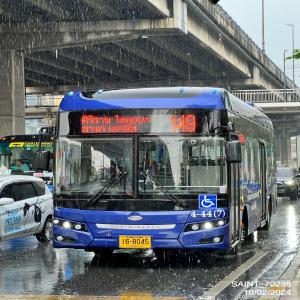Bus Line Number: (167, 112, 200, 134)
Bus Side Number: (188, 209, 227, 220)
Destination Sign: (78, 112, 155, 135)
TSB-Bus: (51, 87, 278, 266)
